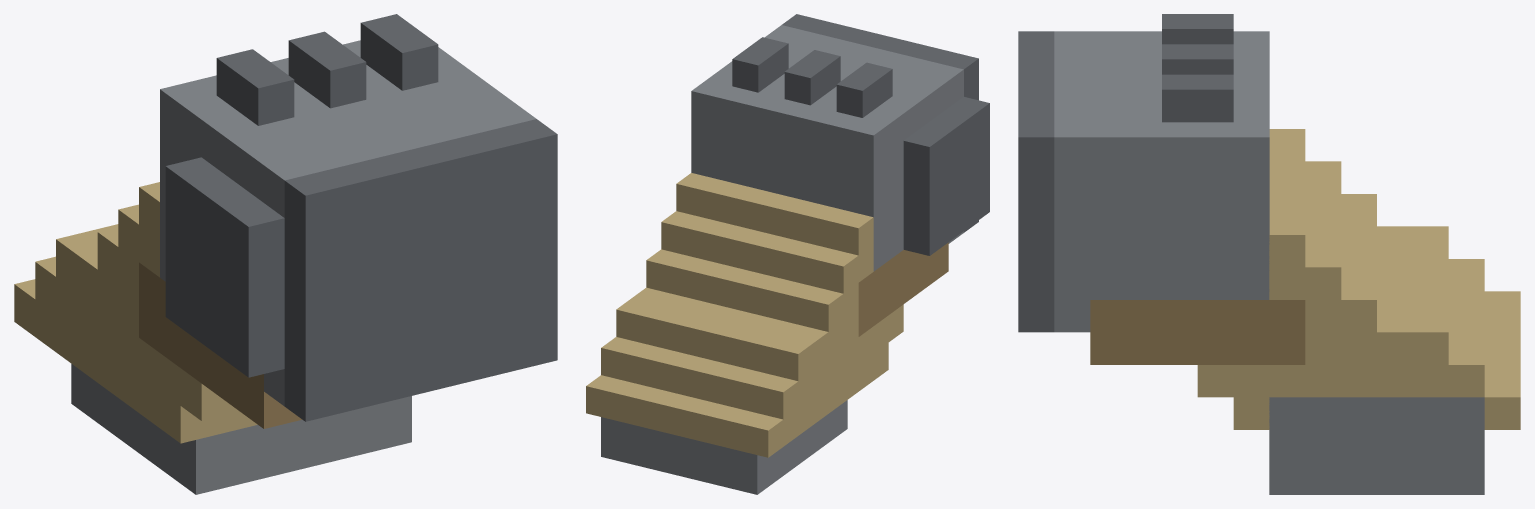
Rendered from arm_r_fore.glb.
The picture shows the model from 3 angles, left to right: view 1: azimuth 30°, elevation 25°; view 2: azimuth 150°, elevation 25°; view 3: azimuth 270°, elevation 25°; orthographic projection. The views are drawn at different scales.
Size of the model in its own units: 8 by 12 by 14.
